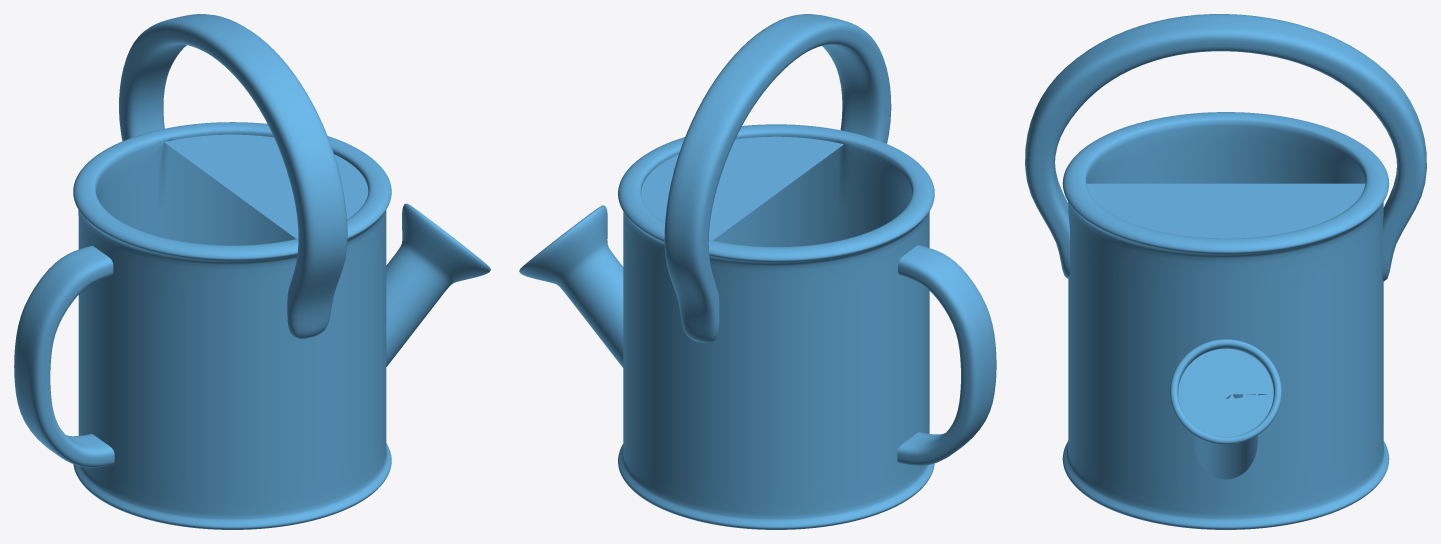
The model's file is WateringCan.fbx.
3 views of the same model, side by side, from view 1: azimuth 30°, elevation 25°; view 2: azimuth 150°, elevation 25°; view 3: azimuth 270°, elevation 25° (orthographic). The views are drawn at different scales.
Visible parts, largest first — view 1: WateringCan; view 2: WateringCan; view 3: WateringCan.
Part boxes in pixels (box(x1,y1,x2,y2)): WateringCan: box(14, 14, 490, 529); WateringCan: box(519, 14, 996, 529); WateringCan: box(1025, 14, 1426, 529).
Size of the model in its own units: 32.01 by 28.81 by 23.63.
